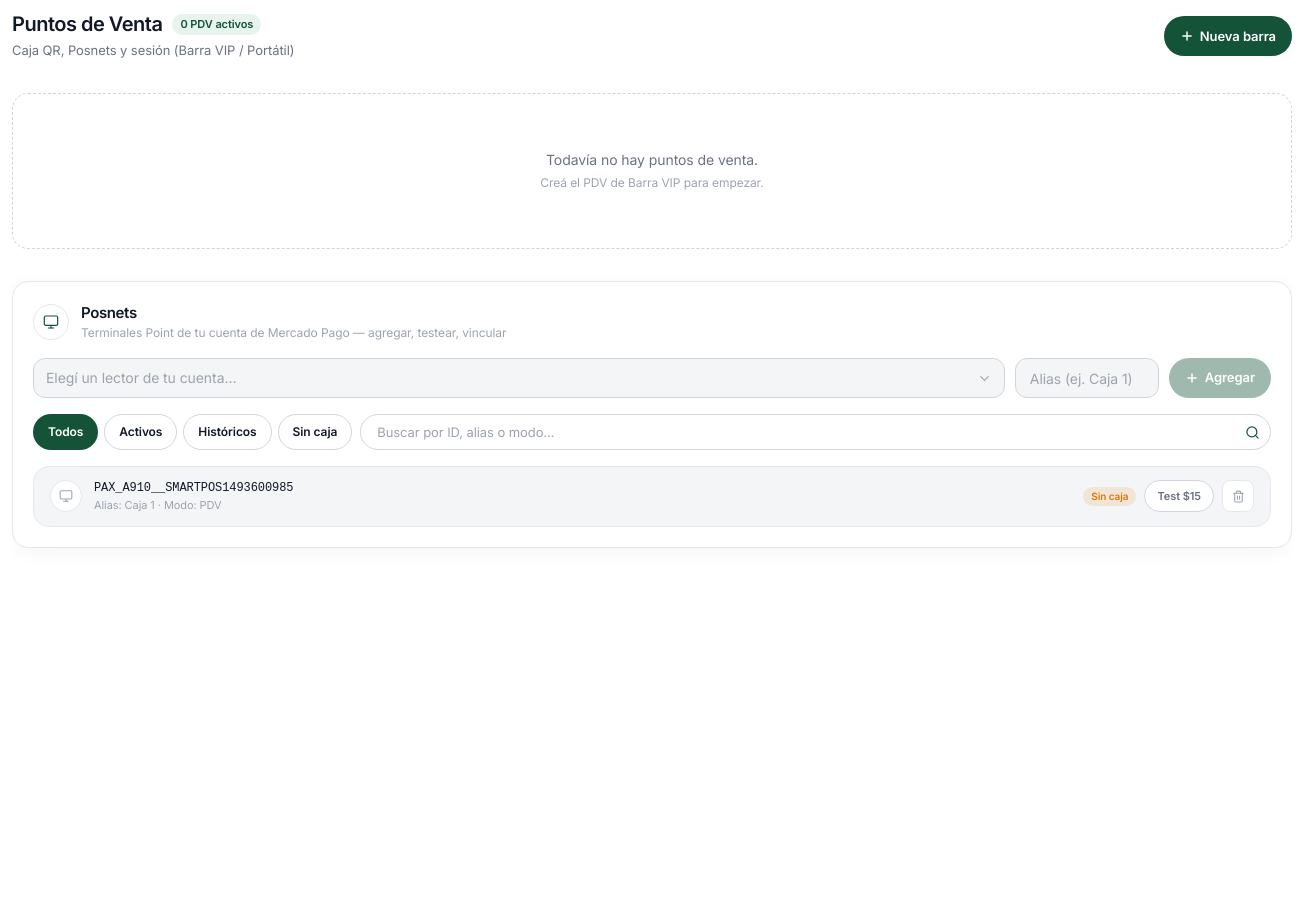
Test: PdvSection › un test fallido muestra el resultado y un error visible (sin catch silencioso)
Click the button "Test $15".
click(1179, 496)  # box top-left (1144, 480), bottom-right (1214, 512)
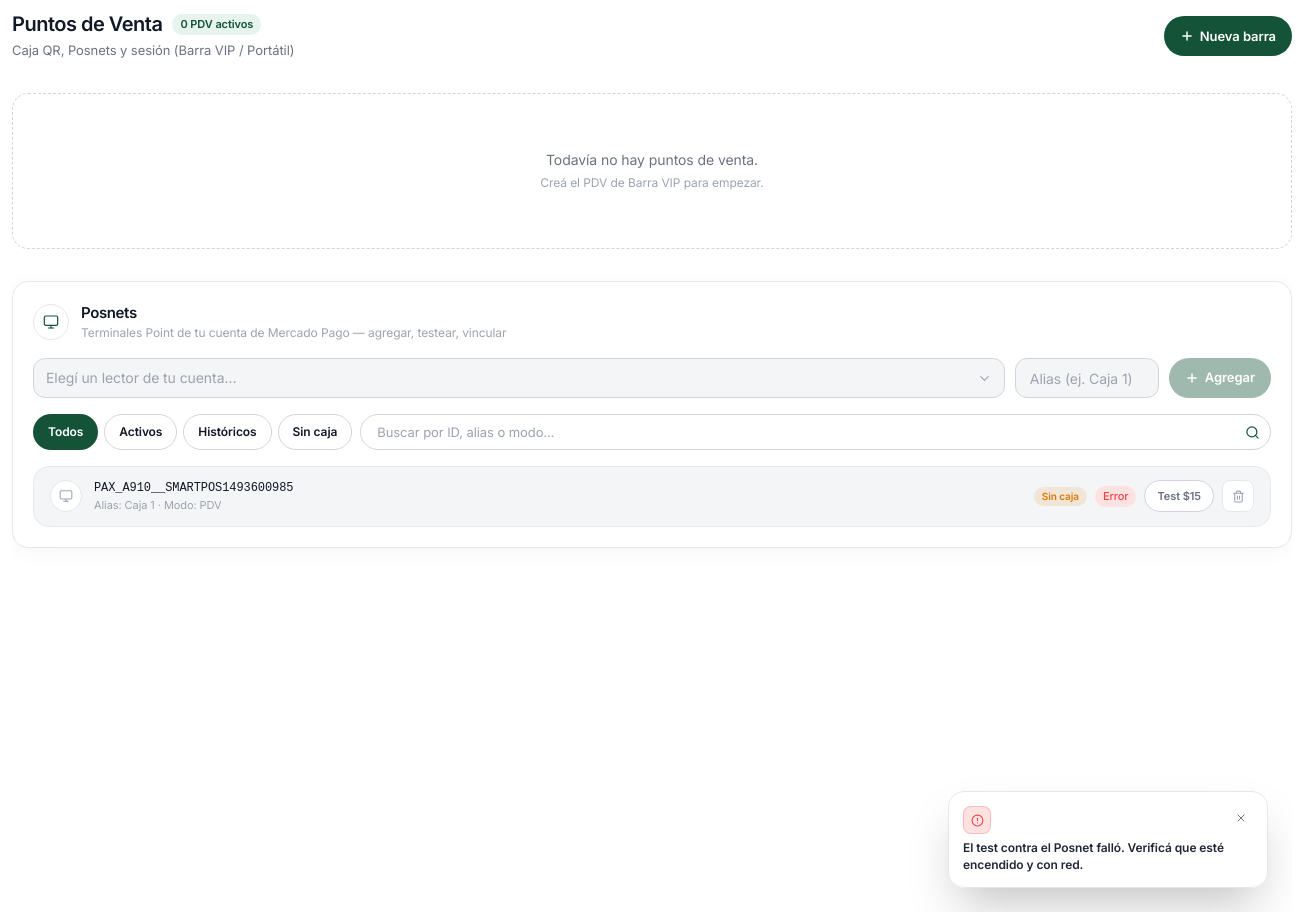
Result: the text "Error" is shown at top-left (1095, 486), bottom-right (1136, 506)
Result: the text "El test contra el Posnet falló" is shown at top-left (963, 840), bottom-right (1224, 872)
